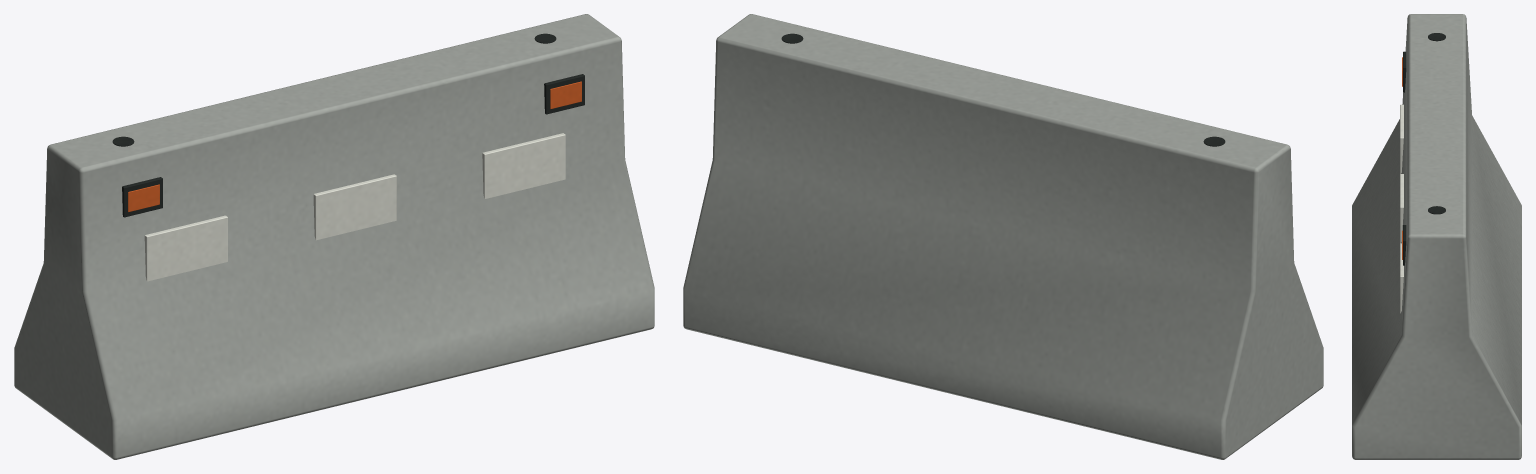
File: jersey-barrier.glb
3 views of the same model, side by side, from view 1: azimuth 30°, elevation 25°; view 2: azimuth 150°, elevation 25°; view 3: azimuth 270°, elevation 25° (orthographic). The views are drawn at different scales.
Parts seen in each view (by area): view 1: jersey-barrier__body; view 2: jersey-barrier__body; view 3: jersey-barrier__body.
Part boxes in pixels (x1,y1,x2,y2): jersey-barrier__body: [14, 14, 654, 459]; jersey-barrier__body: [683, 14, 1323, 459]; jersey-barrier__body: [1352, 14, 1521, 459].
Bounding box in the file's own units: 1.8 × 0.8535 × 0.58.
4 materials, 4 textured.
